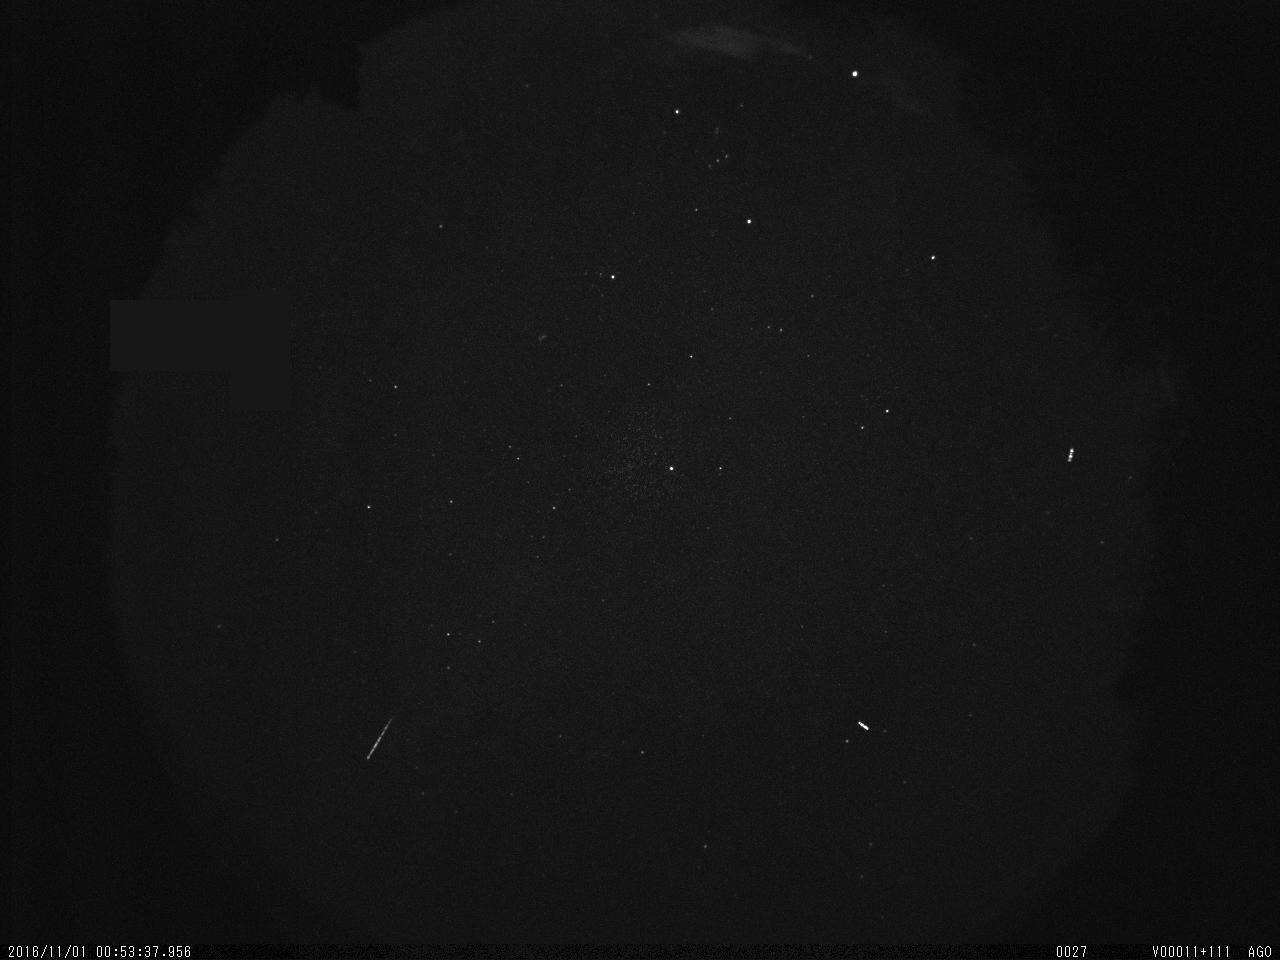meteor: (358, 710, 399, 770)
